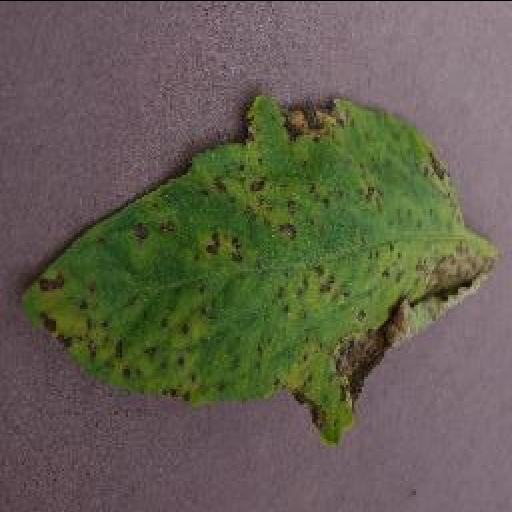disease_tomato: (14, 90, 498, 440)
